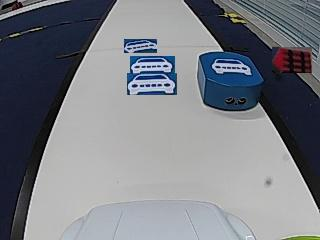safety: (211, 57, 252, 75)
